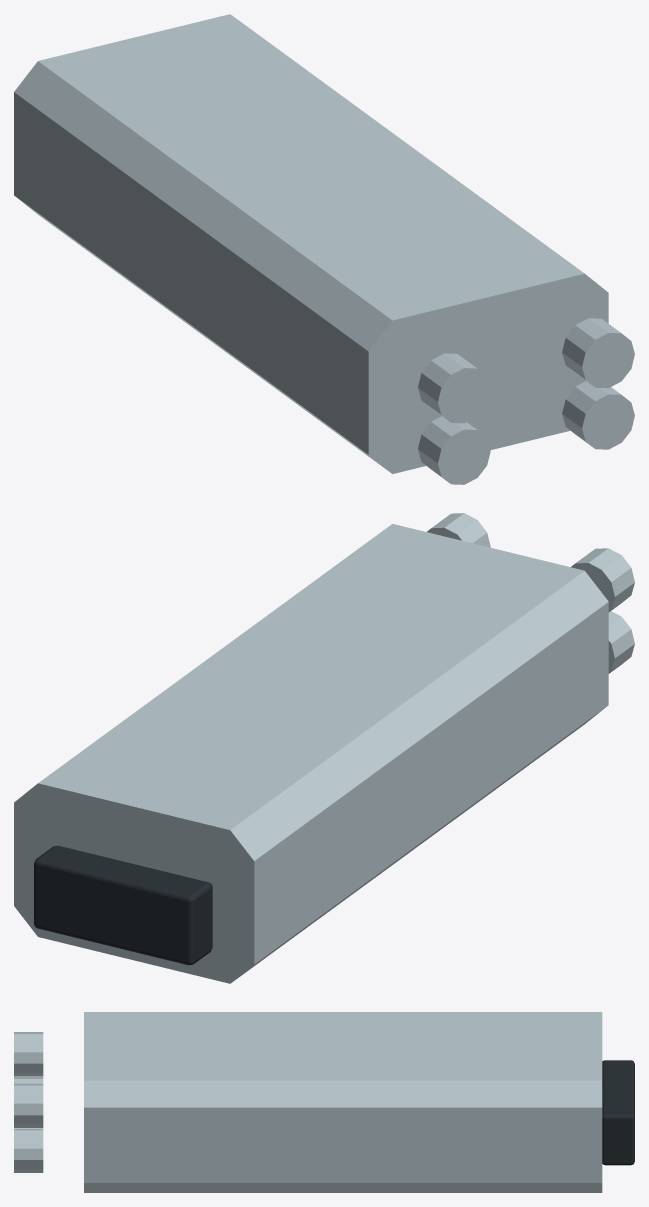
Rendered from data-centre-infiltration-kit-data-centre-infiltration--0a09097b__29248.glb.
The picture shows the model from 3 angles, top to bottom: view 1: azimuth 30°, elevation 25°; view 2: azimuth 150°, elevation 25°; view 3: azimuth 270°, elevation 25°; orthographic projection. The views are drawn at different scales.
Visible parts, largest first — view 1: data-centre-infiltration-kit-power-supply; view 2: data-centre-infiltration-kit-power-supply; view 3: data-centre-infiltration-kit-power-supply.
Boxes of the visible parts, box(x1,y1,x2,y2) form: data-centre-infiltration-kit-power-supply: box(14, 14, 634, 484); data-centre-infiltration-kit-power-supply: box(14, 513, 634, 983); data-centre-infiltration-kit-power-supply: box(14, 1012, 634, 1192).
Size of the model in its own units: 0.09 by 0.055 by 0.2755.
